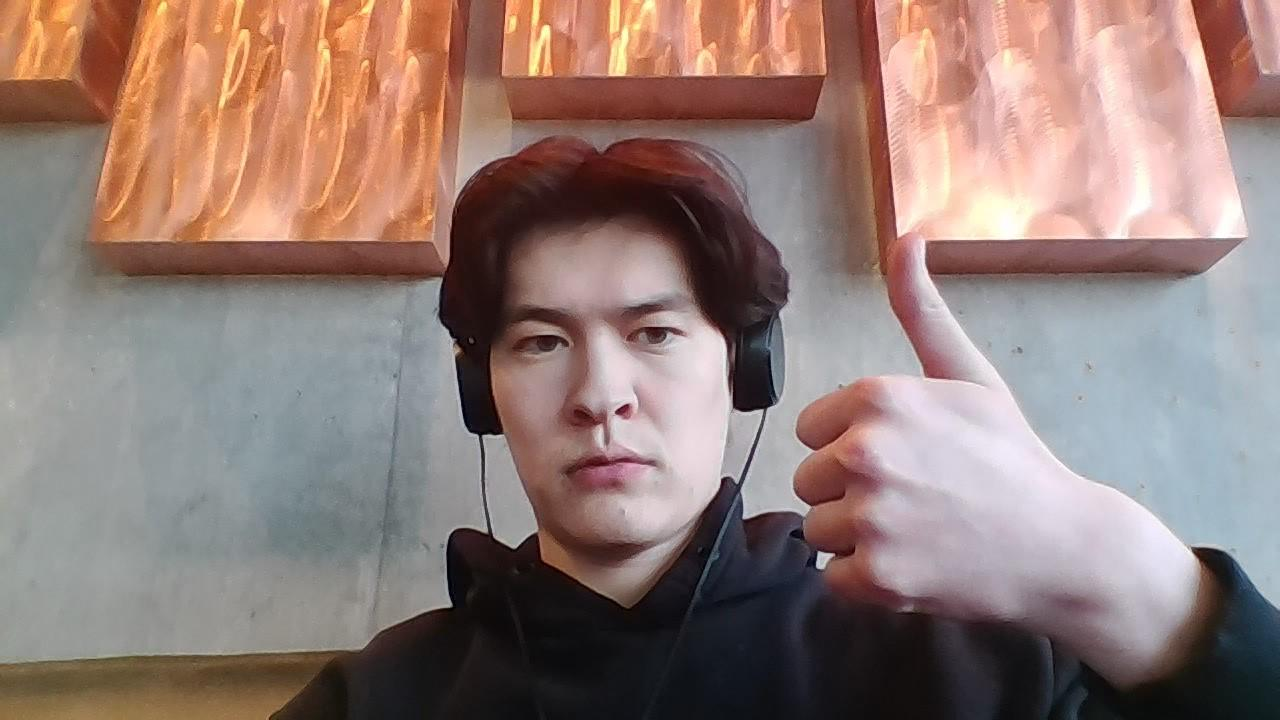thumbsUp: (800, 228, 1040, 622)
